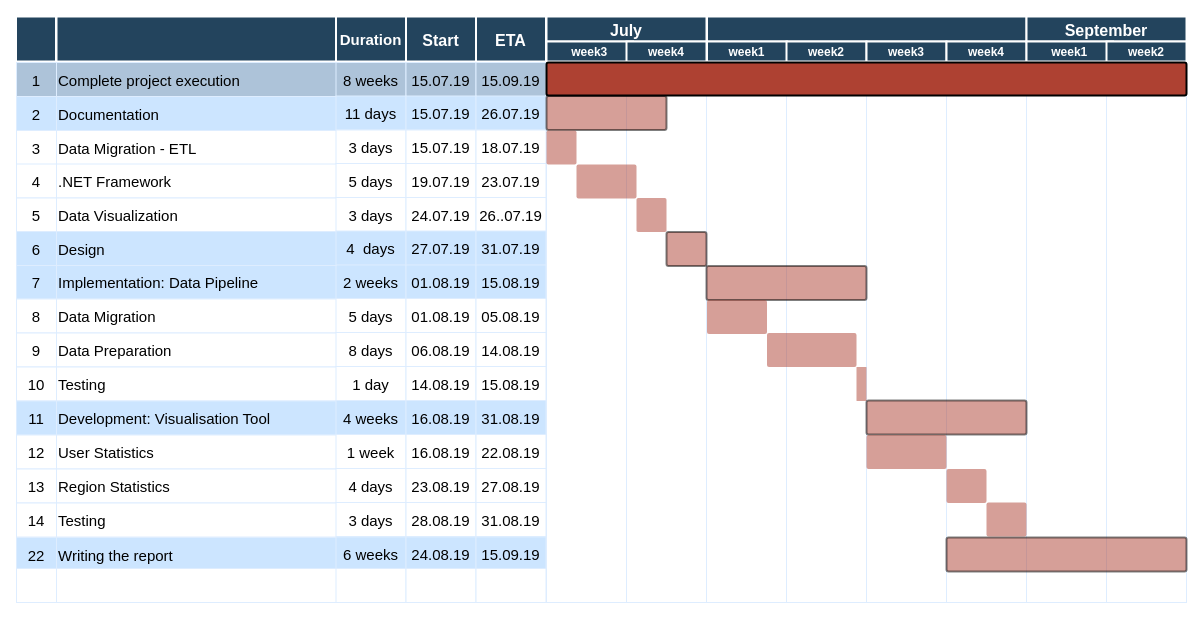
Some shapes in this 1203 by 619 pixel diagram are drawn without their labels. The centre of each missing label's shape, as x and y in pixels:
August: the point at 866,28
Task Name: the point at 196,38
